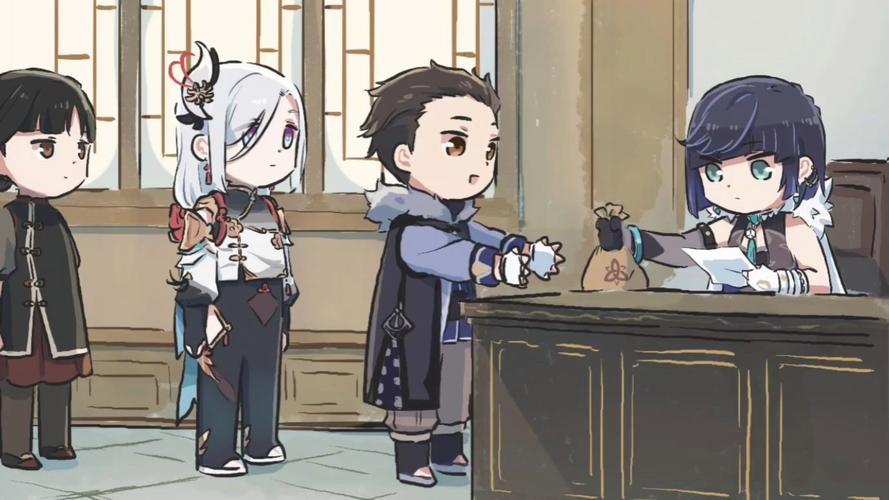夜兰: (588, 68, 849, 304)
